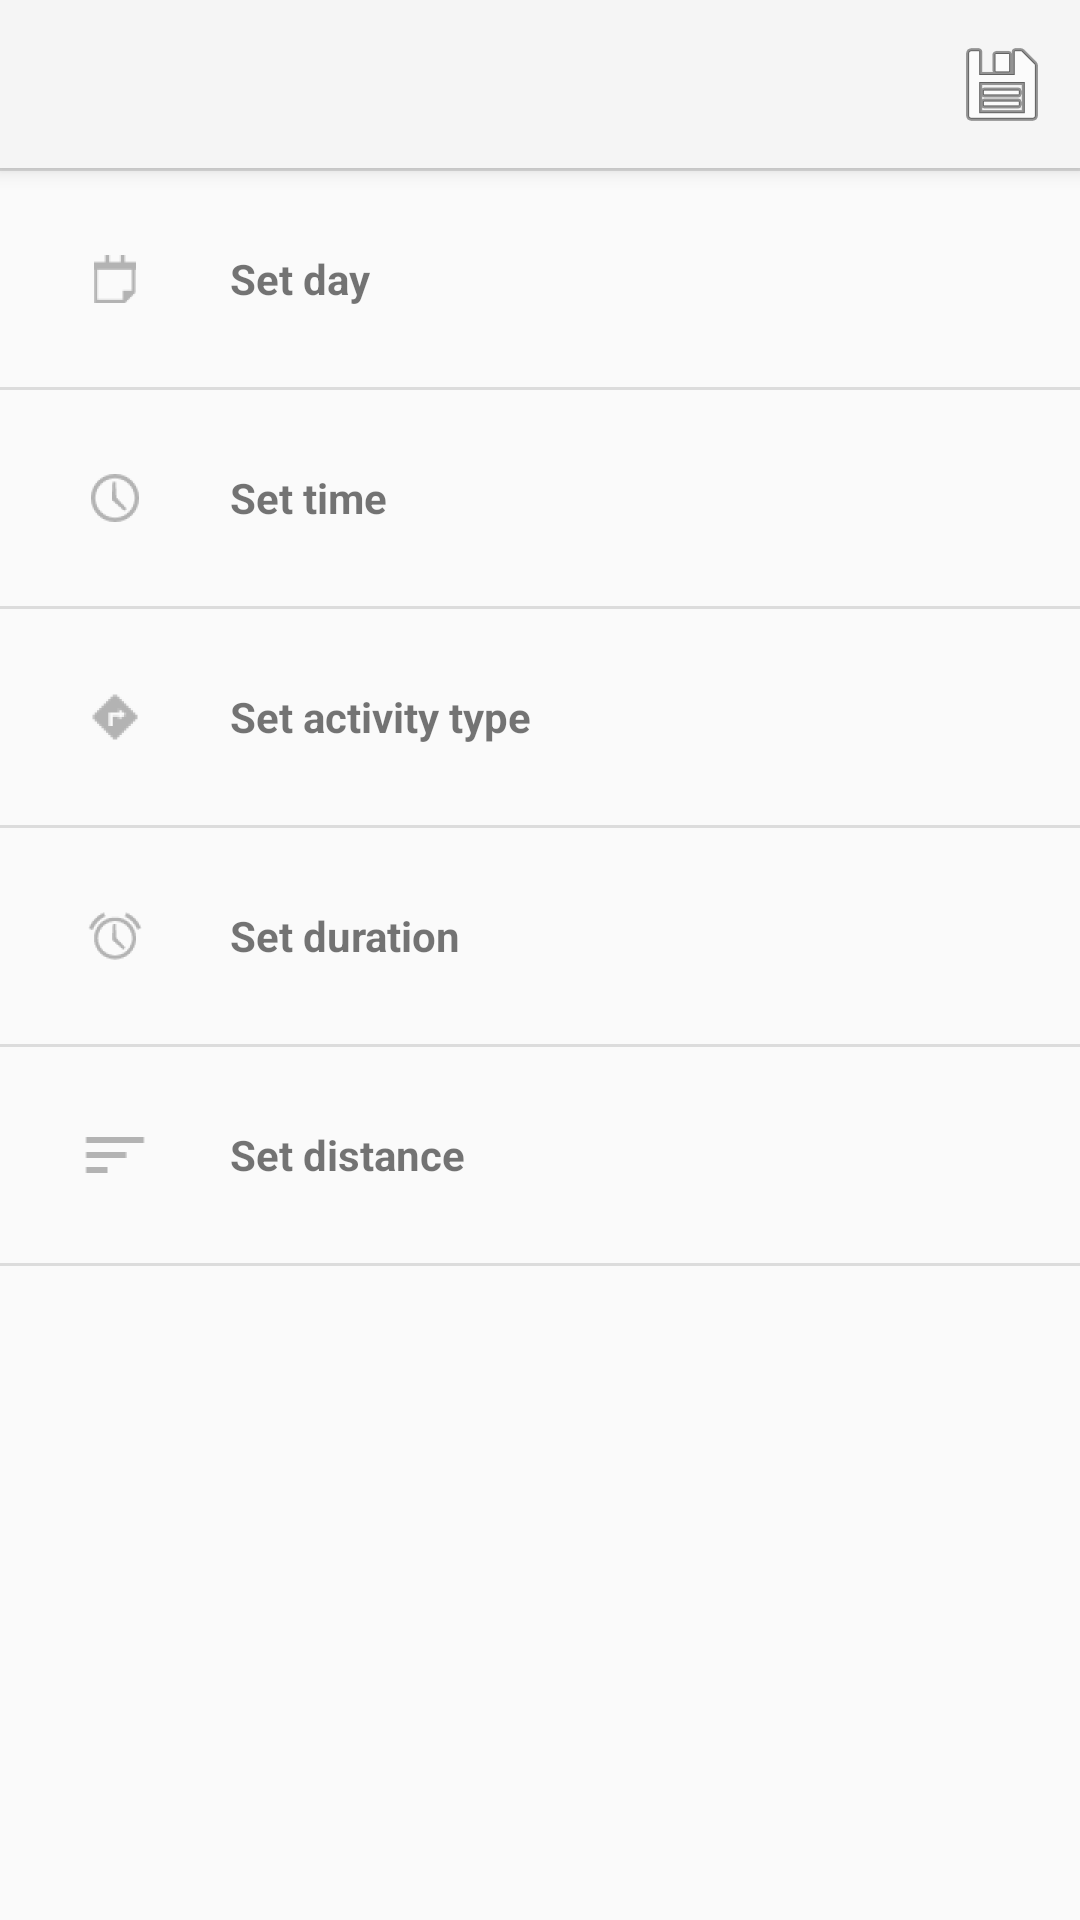

Where to tap for icons on this 1080w x 1920h app screen, as (x,y):
add fitness day: (115,279)
save: (1002,84)
